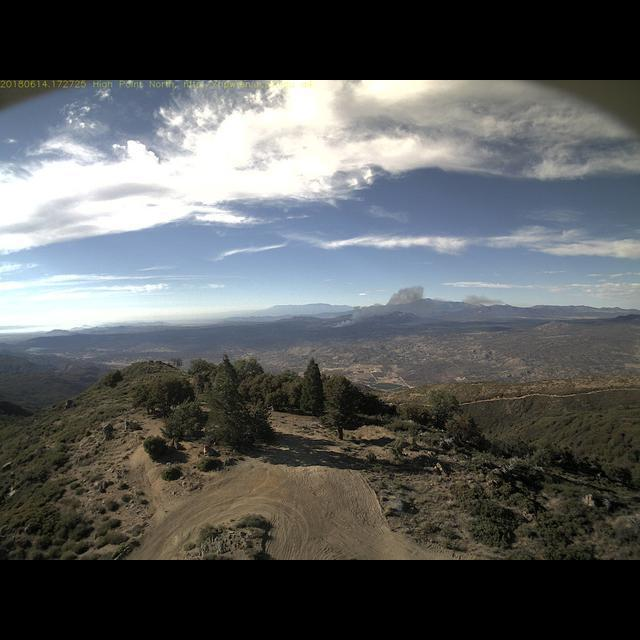Smoke: (328, 282, 425, 330)
